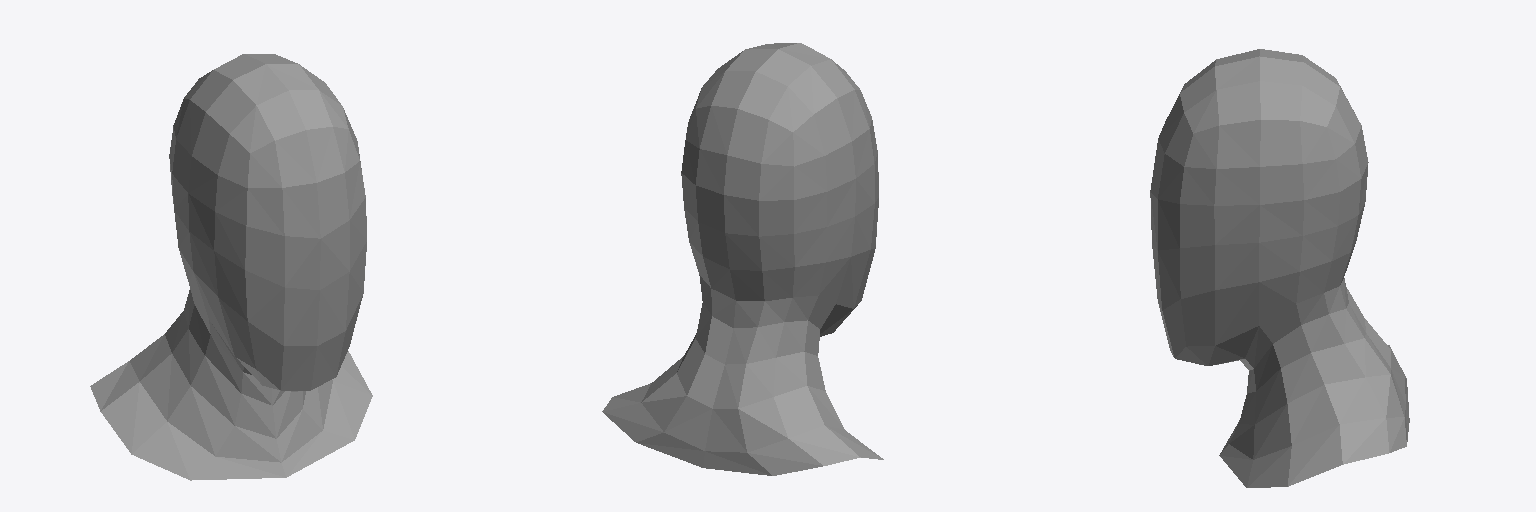
Rendered from head.obj.
The picture shows the model from 3 angles: view 1: azimuth 30°, elevation 25°; view 2: azimuth 150°, elevation 25°; view 3: azimuth 270°, elevation 25°; orthographic projection.
Parts seen in each view (by area): view 1: Cube_Cube.001; view 2: Cube_Cube.001; view 3: Cube_Cube.001.
Boxes of the visible parts, box(x1,y1,x2,y2) form: Cube_Cube.001: box(90, 54, 372, 480); Cube_Cube.001: box(602, 43, 883, 475); Cube_Cube.001: box(1150, 49, 1409, 487).
Size of the model in its own units: 26.04 by 40.01 by 23.57.